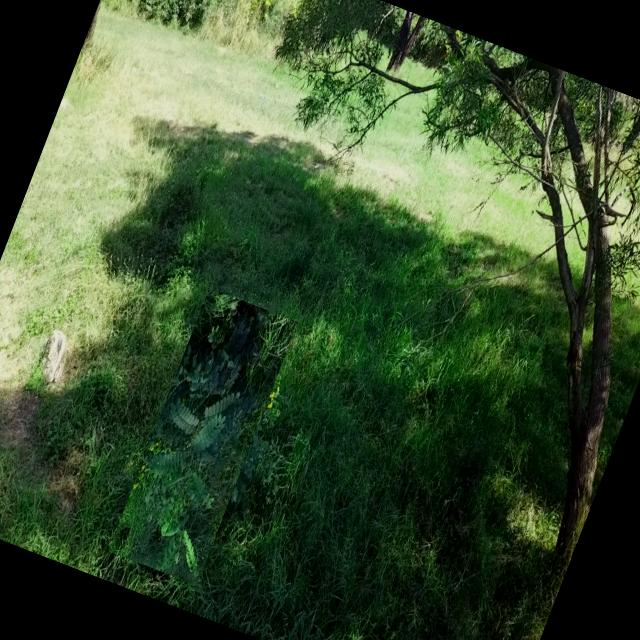Mysore-Thorn-Weed: (108, 288, 298, 586)
